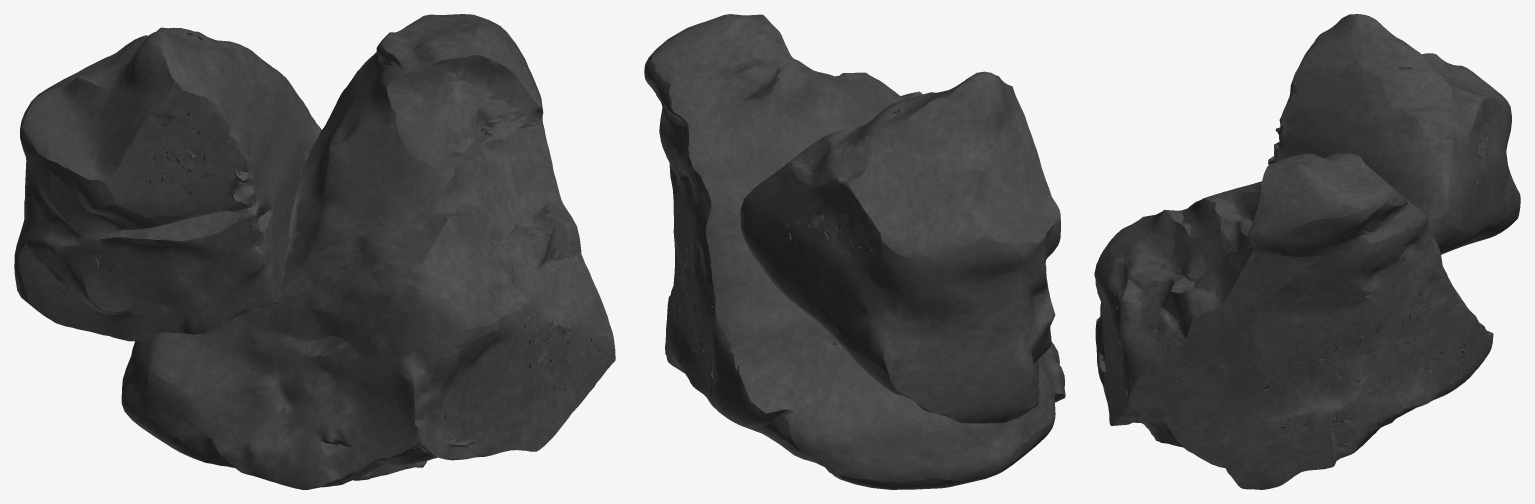
The picture shows the model from 3 angles, left to right: view 1: azimuth 30°, elevation 25°; view 2: azimuth 150°, elevation 25°; view 3: azimuth 270°, elevation 25°; orthographic projection. The views are drawn at different scales.
Parts seen in each view (by area): view 1: world; view 2: world; view 3: world.
Part boxes in pixels (box(x1,y1,x2,y2)): world: box(14, 14, 615, 489); world: box(644, 14, 1065, 489); world: box(1094, 14, 1520, 489).
Size of the model in its own units: 0.12 by 0.1072 by 0.1203.
Materials: 1 (1 with a texture image).
